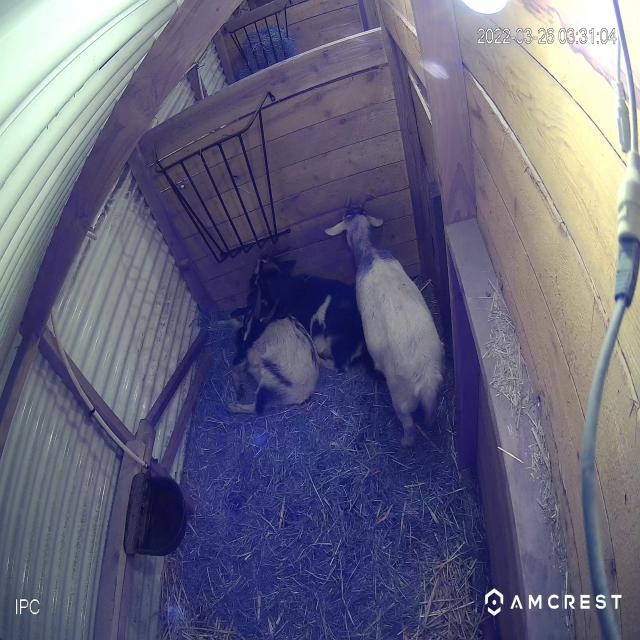goat: (321, 180, 455, 450), (231, 252, 361, 368), (229, 260, 316, 409)
